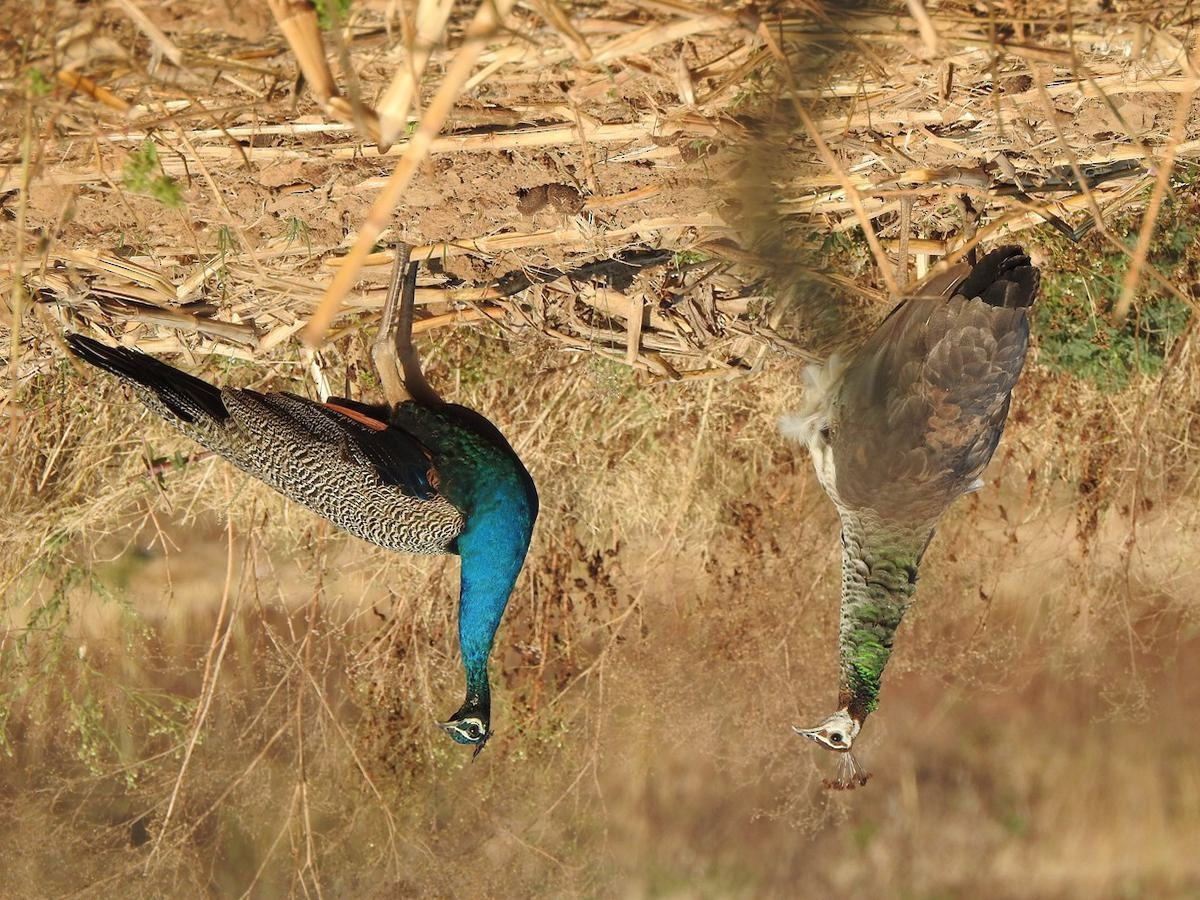peacock: (88, 188, 557, 762)
